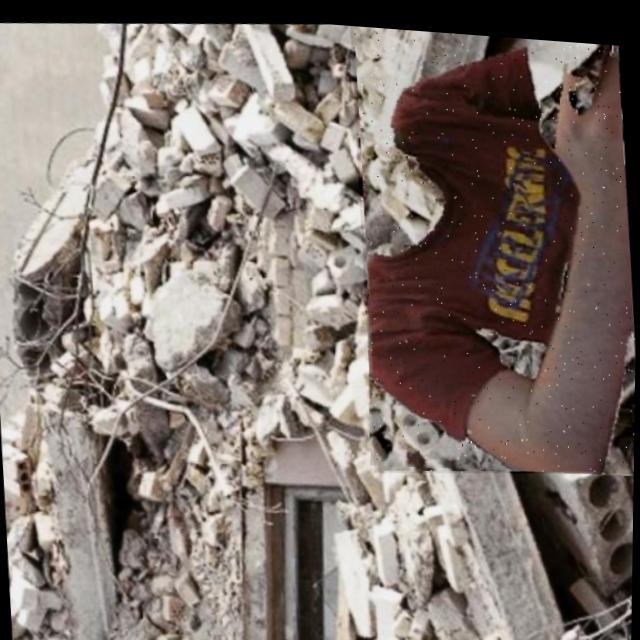Person in Rubble: (344, 20, 640, 480)
